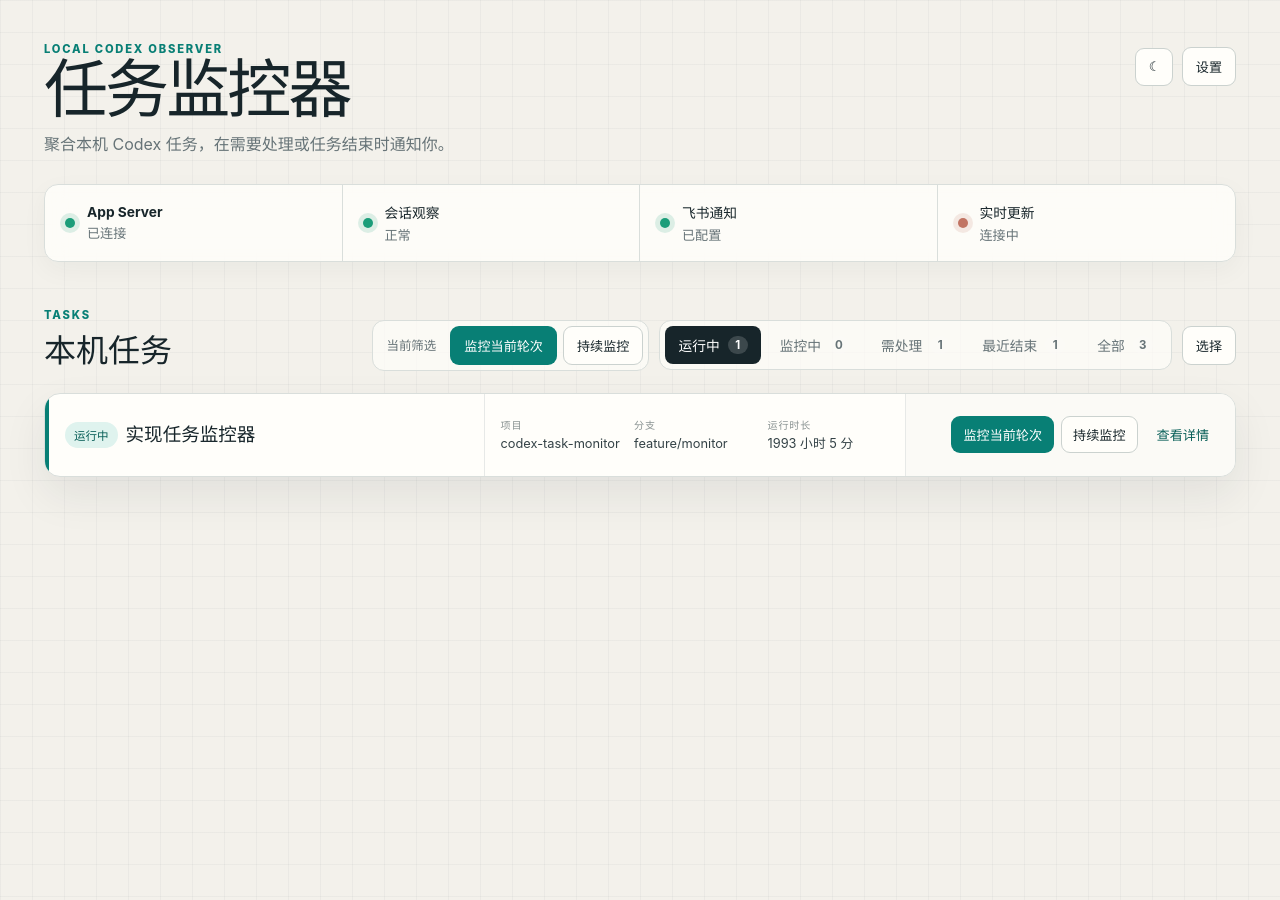
Test case: 任务监控主页面 › 确认手动结束后任务进入最近结束
Right-click the element with class "task-card" at [640, 435], box [44,393,1236,477]
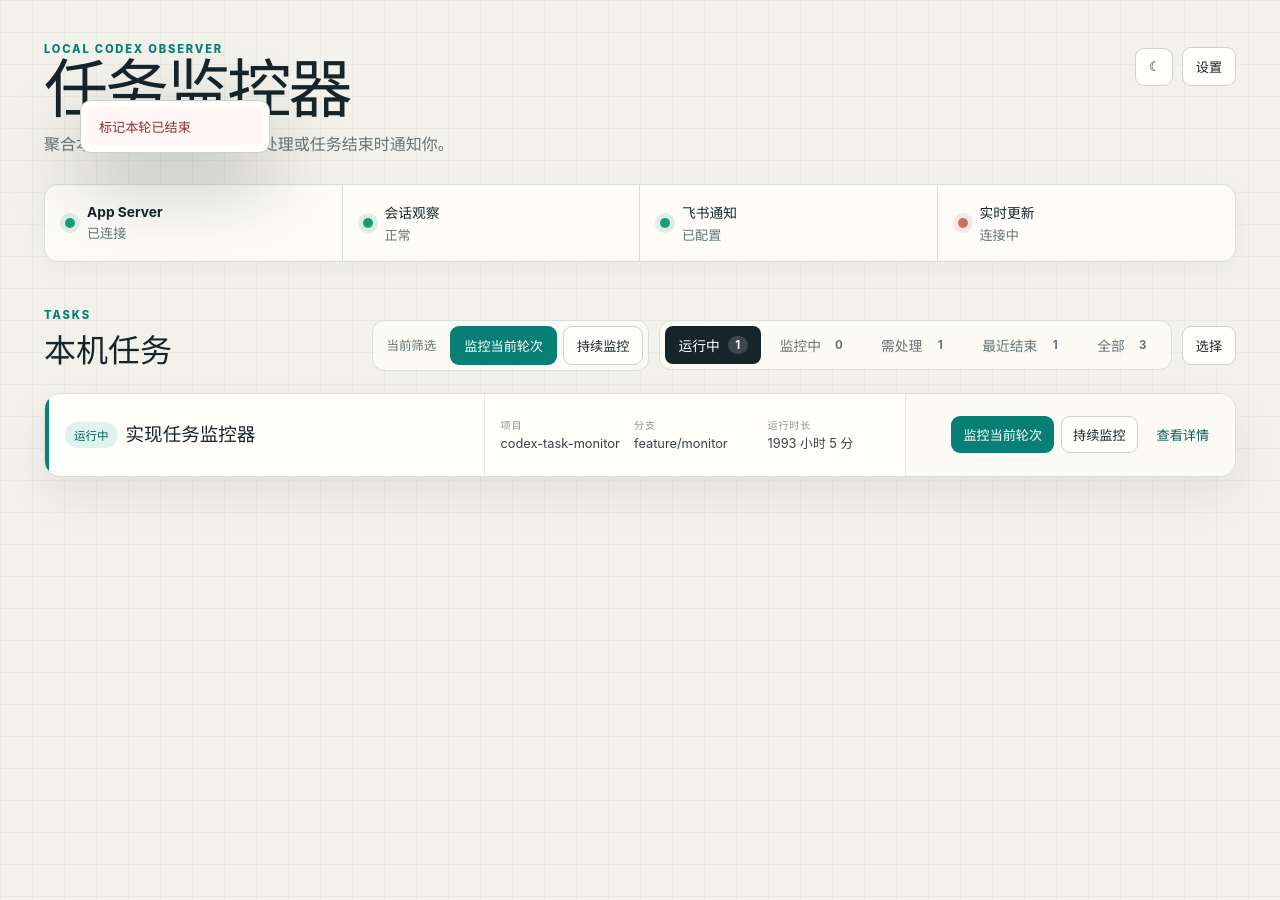
Click the menu item "标记本轮已结束" at [175, 126], box [87,107,263,146]
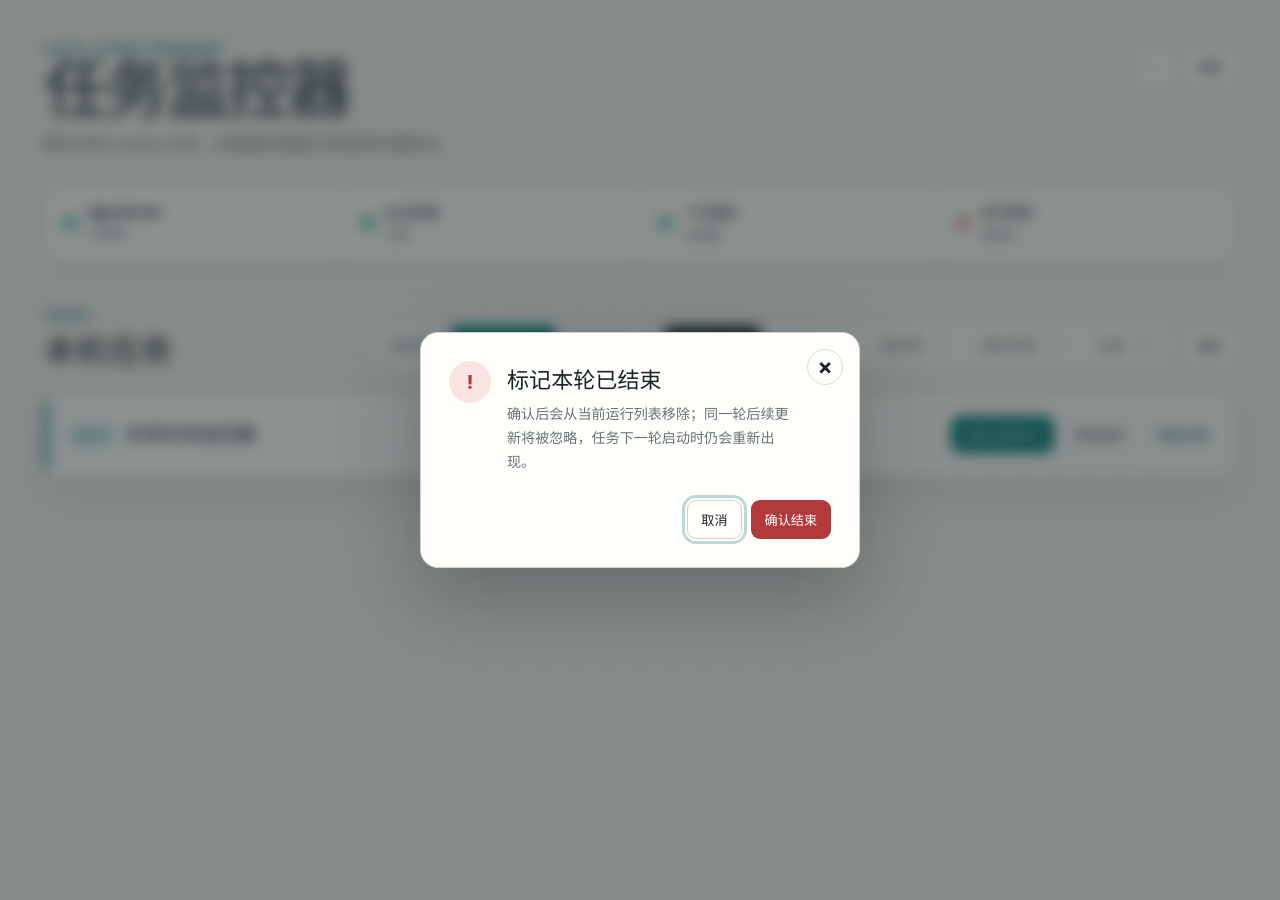
Click the button "确认结束" at [791, 519], box [750,500,831,539]
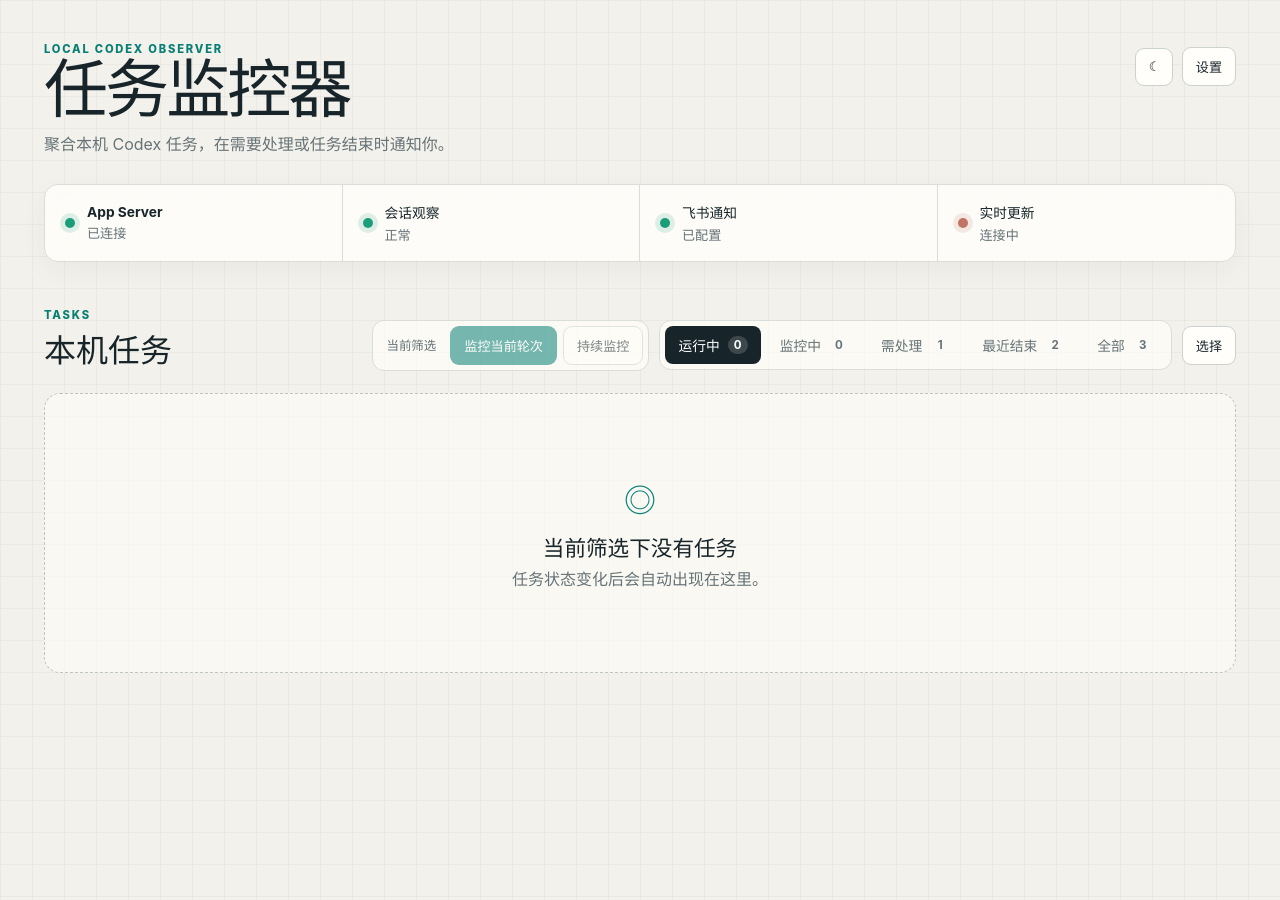
Result: the dialog is gone
Result: the text "实现任务监控器" is gone
Click the button "最近结束 2" at [1024, 345], box [969,326,1078,364]
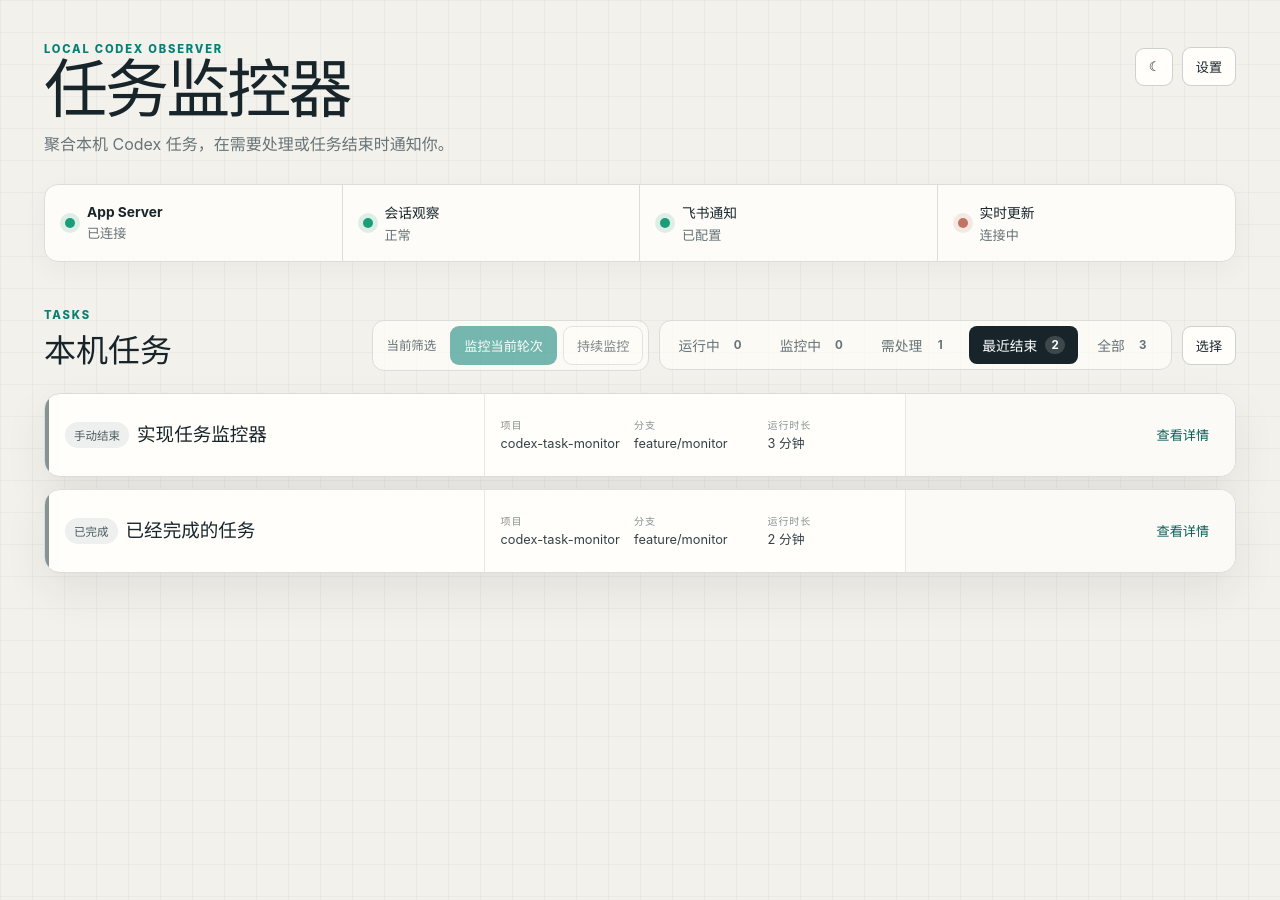
Result: the text "实现任务监控器" is shown at [137,424,267,445]
Result: the text "手动结束" is shown at [65,422,129,448]
